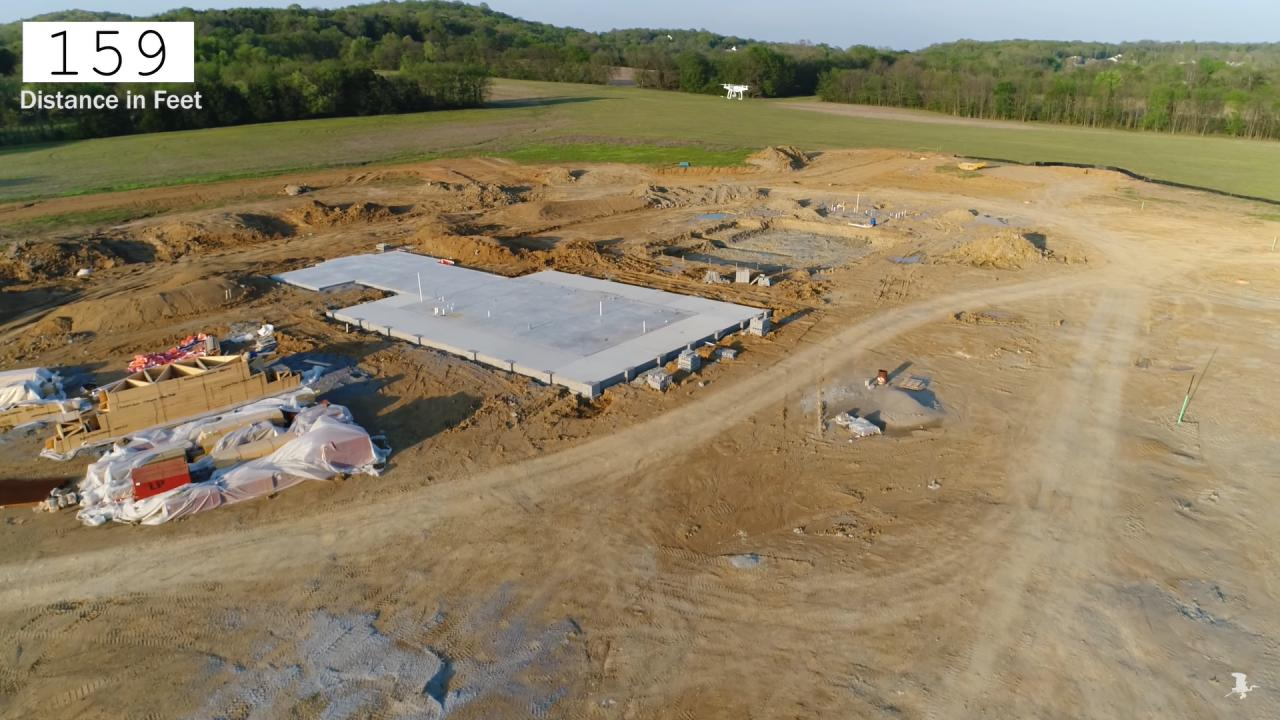Drone: (714, 76, 755, 108)
